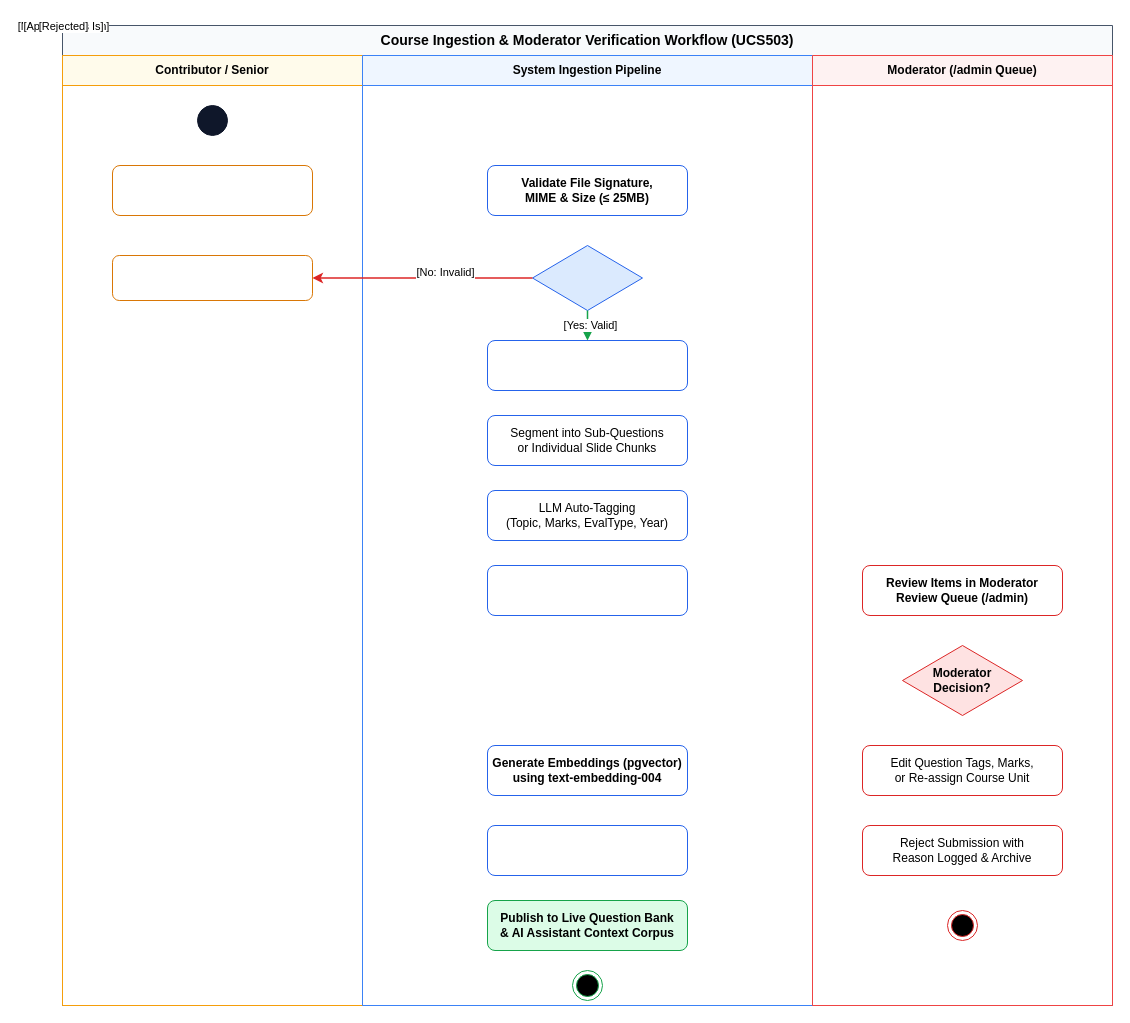
Some shapes in this 1130 by 1023 pixel diagram are drawn without their labels. The centre of each missing label's shape, as x and y in pixels:
Correct File & Re-upload: point 212,277
Deterministically Recalculate Topic Weightage in SQL: point 587,850
Format & Size OK?: point 587,277
PDF Native Text Extraction & Section Boundary Detection: point 587,365
Stage in DB with Status: 'PENDING_REVIEW': point 587,590
Upload PDF Document (Lecture Slide / PYQ Paper): point 212,190
